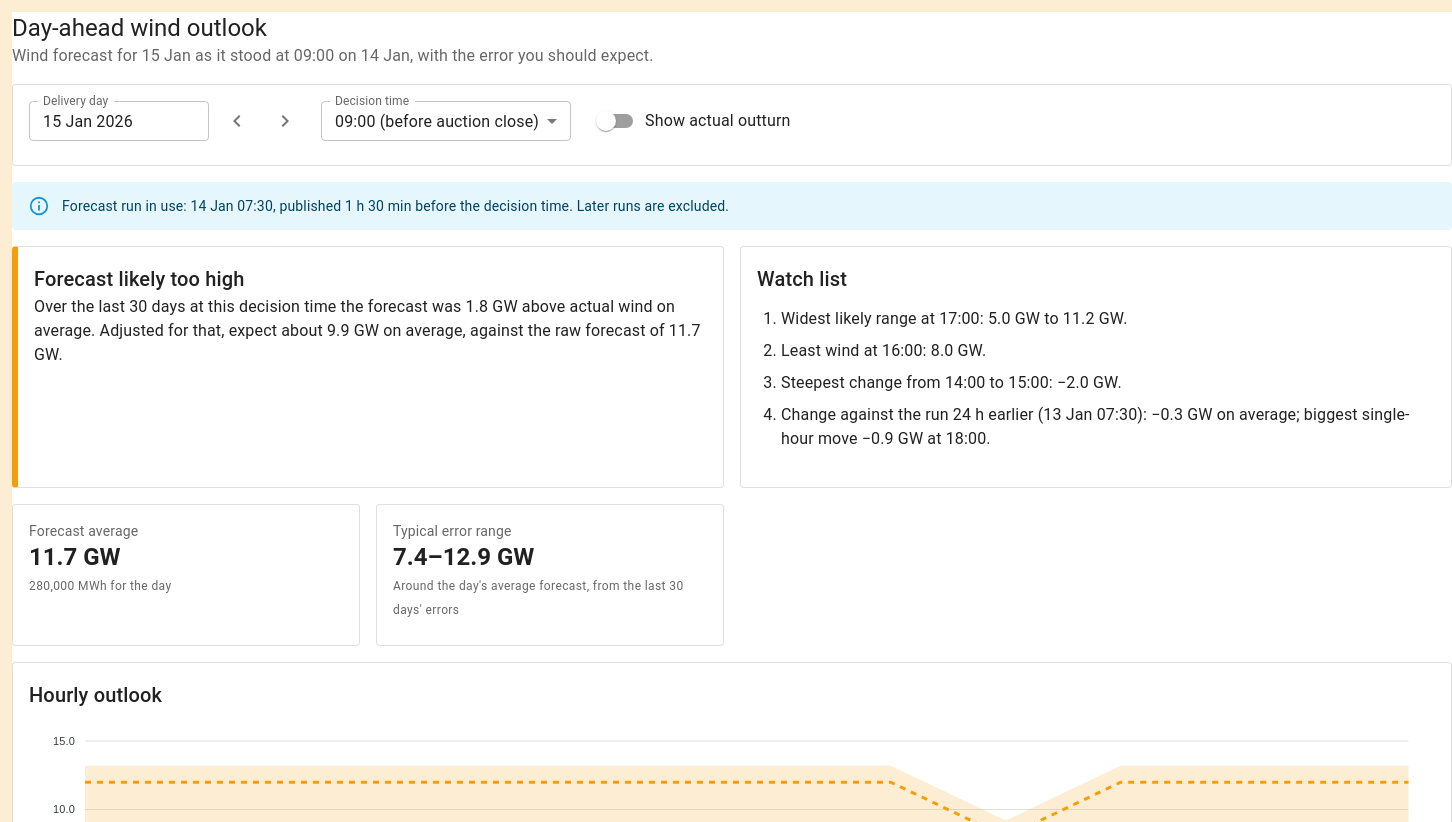
Test: OutlookPage — US1 › refetches with the new decision time (AC2)
Expected: the text "Forecast run in use: 14 Jan 07:30" is shown, [62,198,729,214]
What coordinates should you click on to do the following:
click the dropdown named "Decision time"
I would click on:
 (437, 121)
Its box is [335,112,539,130].
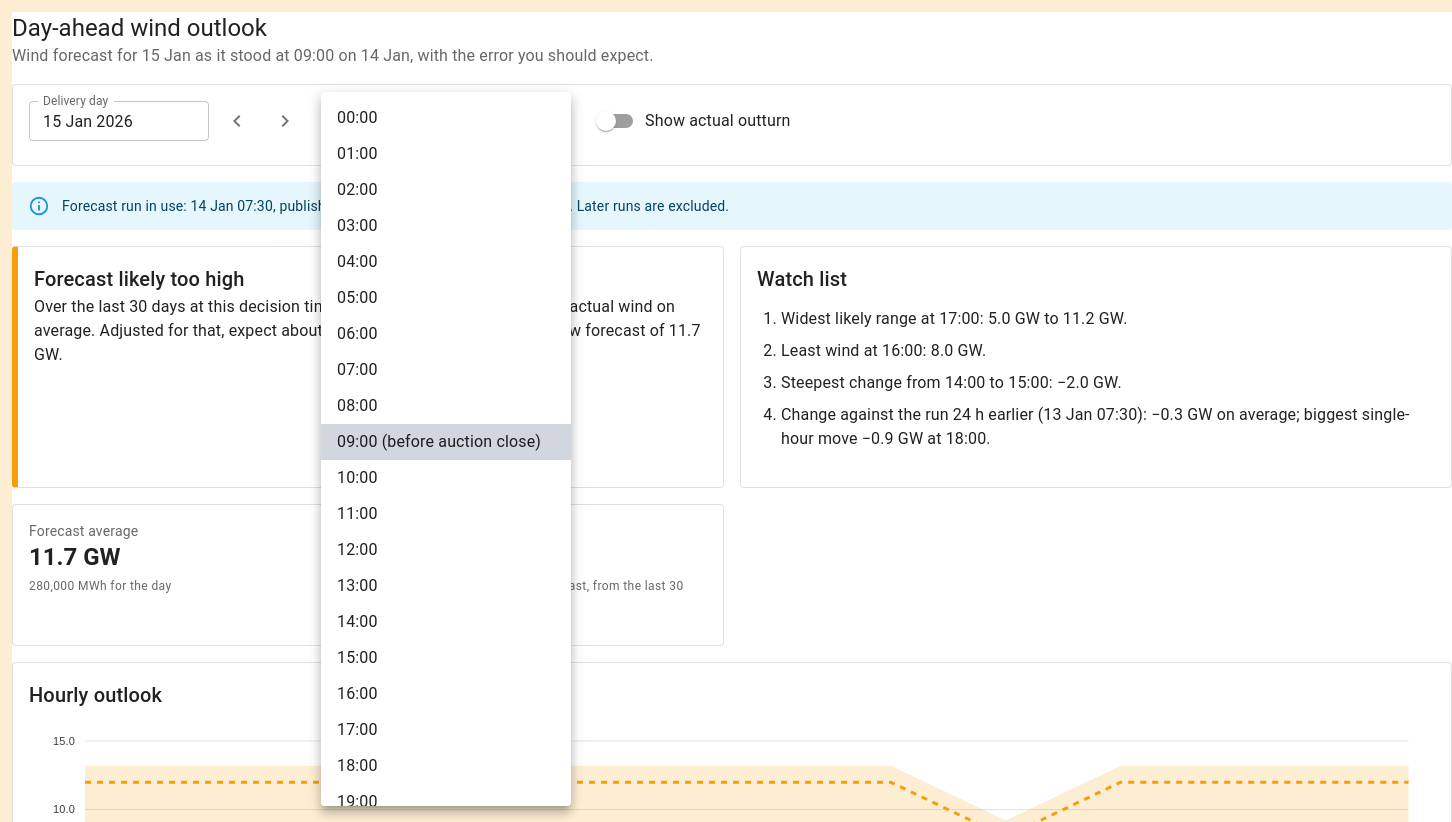
What coordinates should you click on to do the following:
click the option "12:00"
I would click on:
 (357, 550)
Its box is [337,540,378,559].
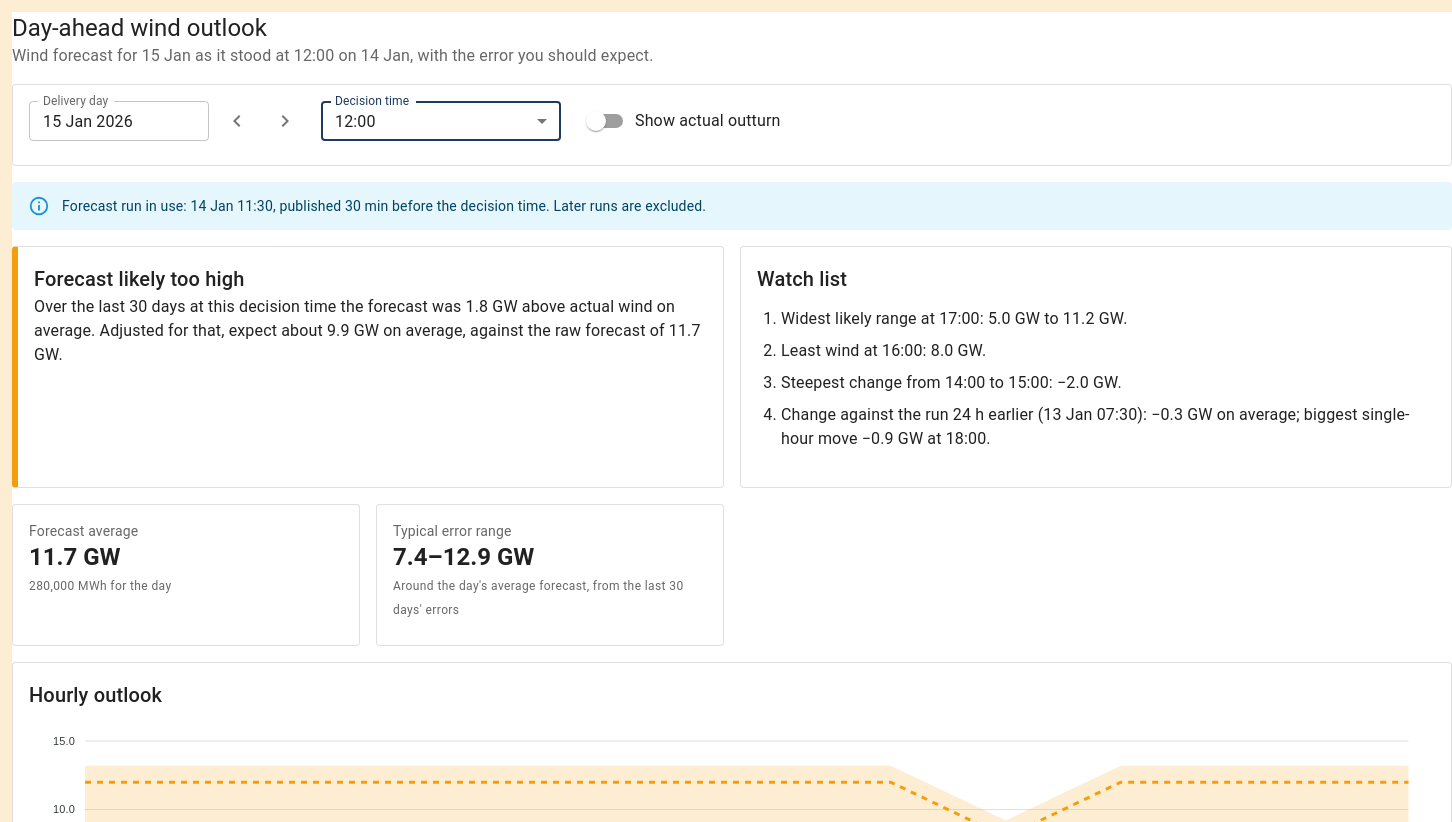
Expected: the text "Forecast run in use: 14 Jan 11:30" is shown, [62,198,706,214]
